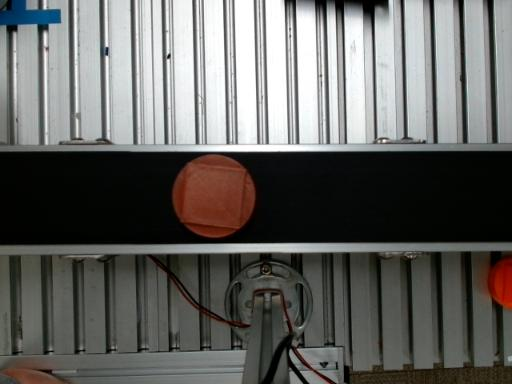Brown_Waper: (173, 155, 255, 238)
Square: (180, 163, 247, 229)
